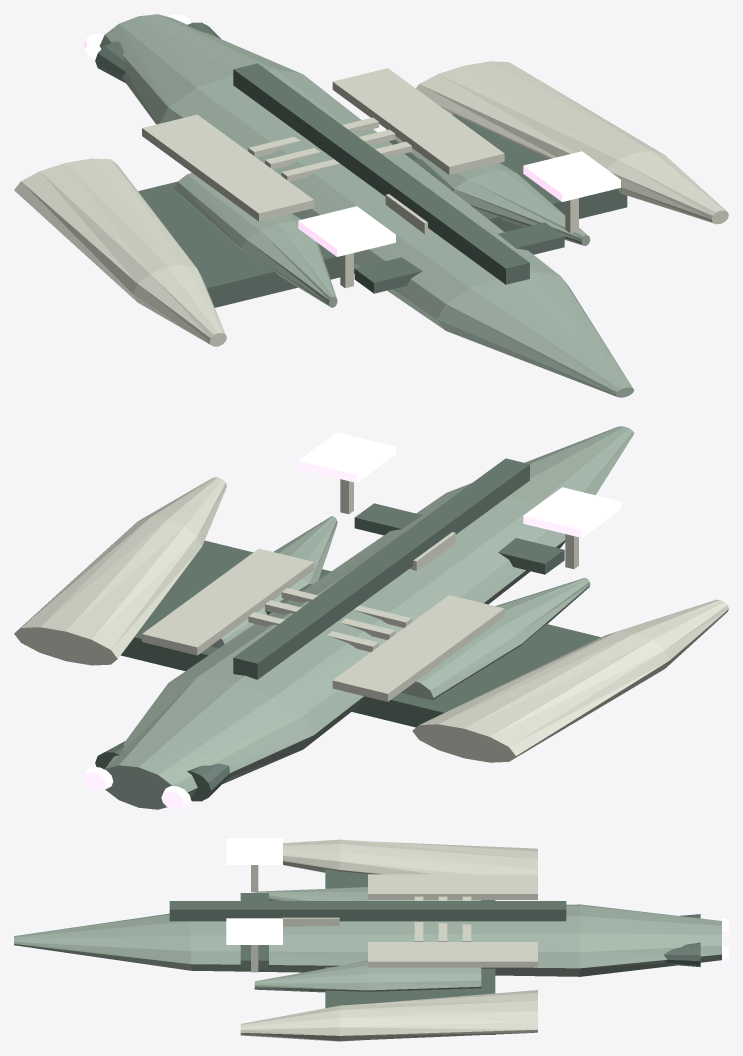
3 renders of one model, top to bottom at view 1: azimuth 30°, elevation 25°; view 2: azimuth 150°, elevation 25°; view 3: azimuth 270°, elevation 25°, orthographic. The views are drawn at different scales.
Size of the model in its own units: 7.01 by 1.31 by 11.11.
